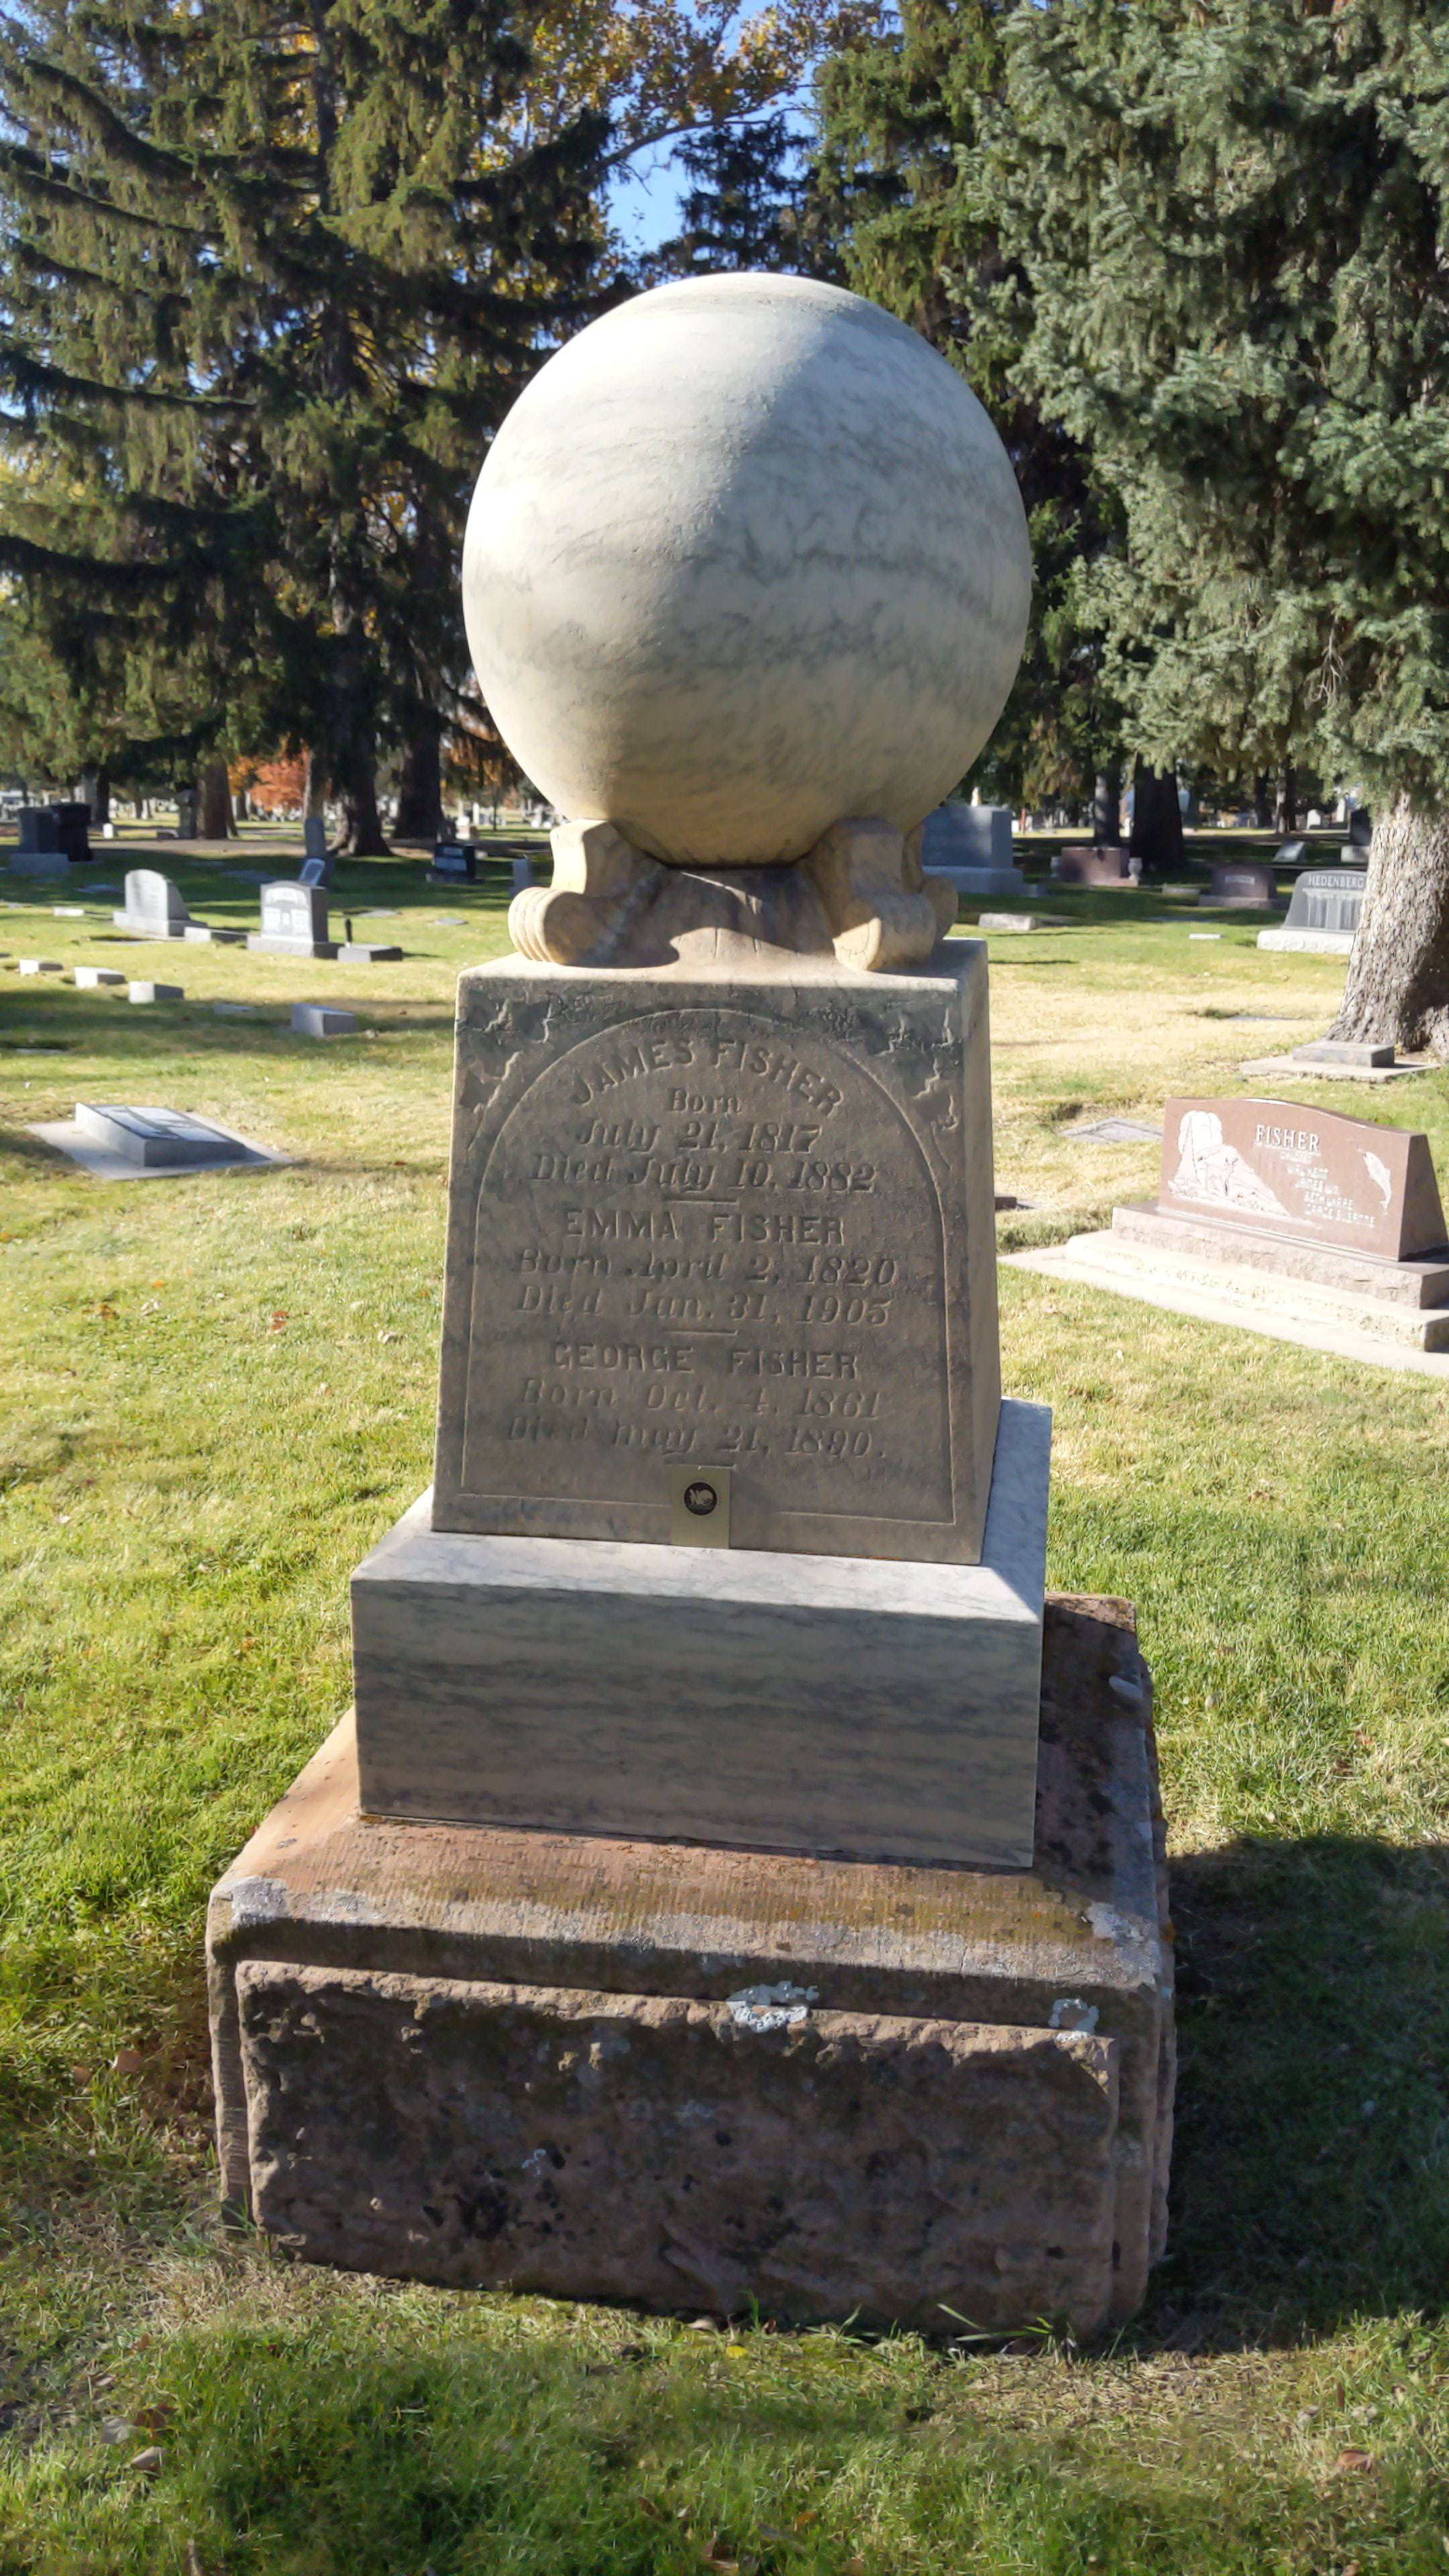obelisk: (352, 274, 1051, 1881)
